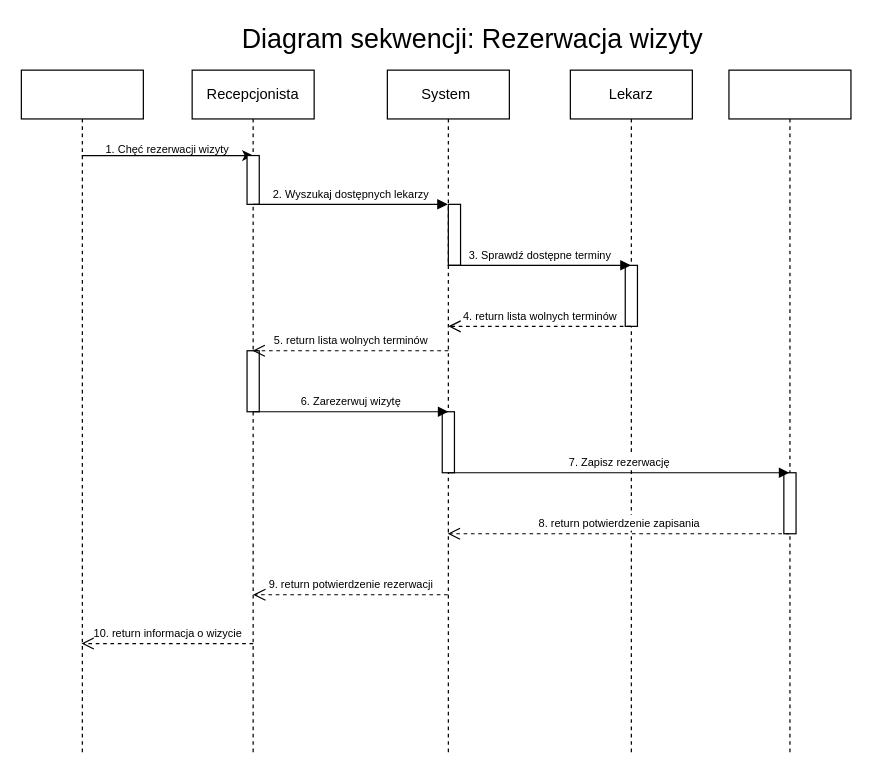
Some shapes in this 872 by 775 pixel diagram are drawn without their labels. Each missing label, with the box of its shape:
Baza danych: (728, 69, 851, 753)
Pacjent: (20, 69, 143, 753)
